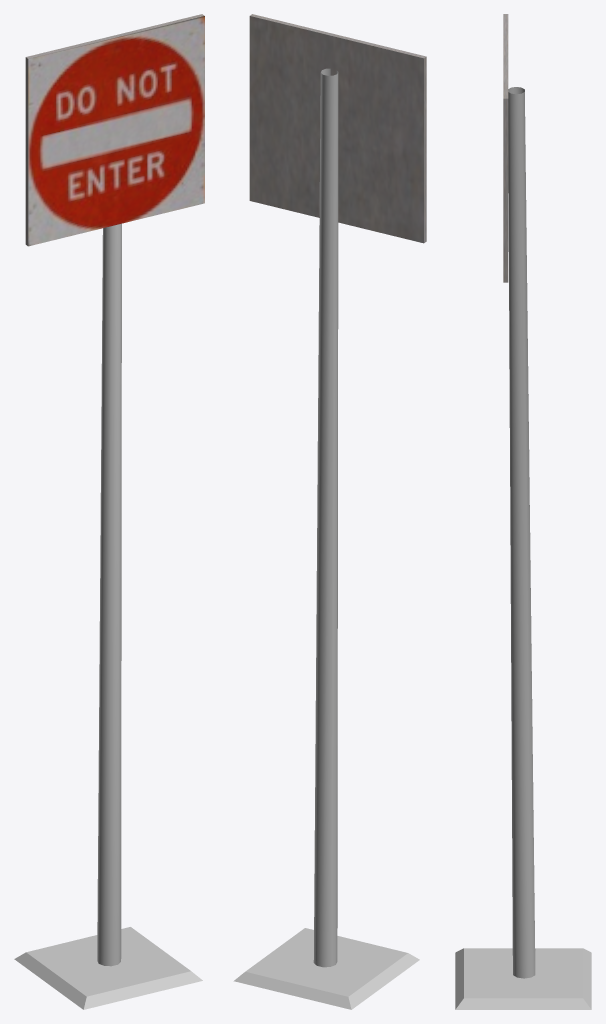
Rendered from D_road_s_01.FBX.
The picture shows the model from 3 angles, left to right: view 1: azimuth 30°, elevation 25°; view 2: azimuth 150°, elevation 25°; view 3: azimuth 270°, elevation 25°; orthographic projection.
Parts seen in each view (by area): view 1: Object146; view 2: Object146; view 3: Object146.
Part boxes in pixels (x1,y1,x2,y2): Object146: (14,14,204,1009); Object146: (233,14,426,1009); Object146: (455,14,591,1009).
Size of the model in its own units: 1.53 by 1.04 by 7.77.
